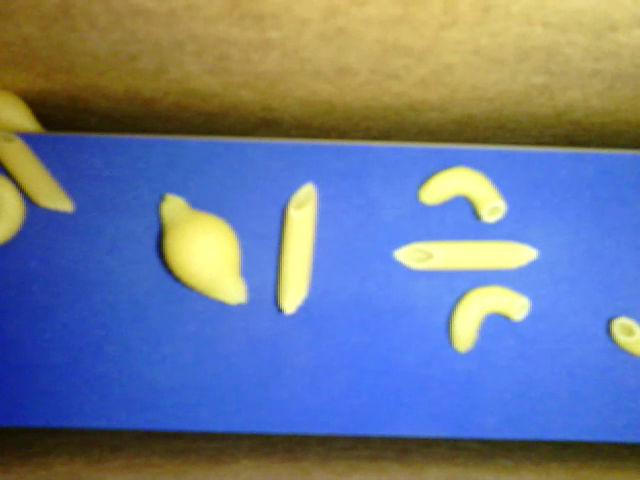elbow: (449, 284, 530, 353), (417, 165, 507, 222), (609, 317, 639, 356)
penne: (1, 131, 75, 214), (277, 182, 316, 315), (392, 240, 538, 270)
shell: (159, 192, 247, 305)
